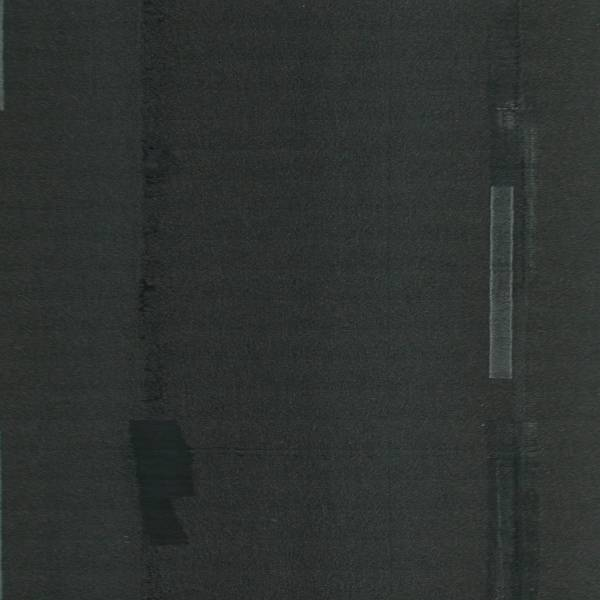road_damage: (123, 412, 201, 554), (135, 124, 188, 224), (135, 266, 160, 326)
